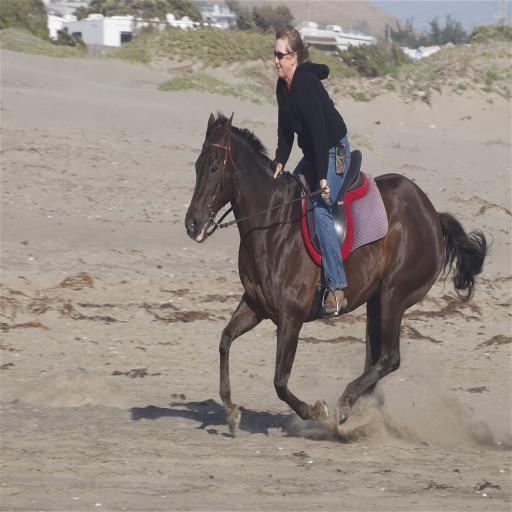horse: (182, 106, 496, 436)
